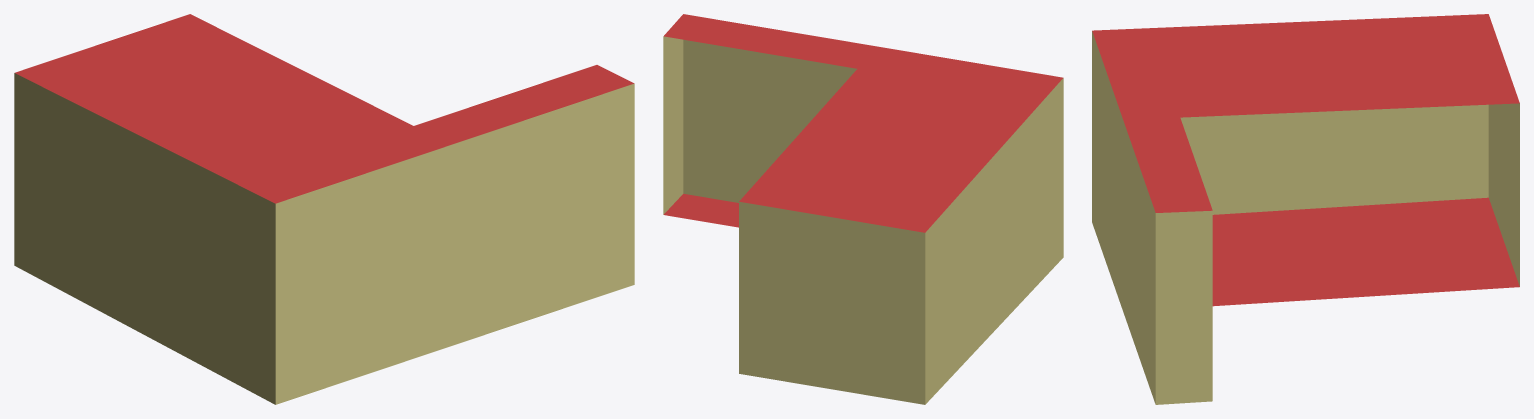
The picture shows the model from 3 angles, left to right: view 1: azimuth 30°, elevation 25°; view 2: azimuth 150°, elevation 25°; view 3: azimuth 270°, elevation 25°; orthographic projection. The views are drawn at different scales.
Bounding box in the file's own units: 12.08 × 10.54 × 5.21.
